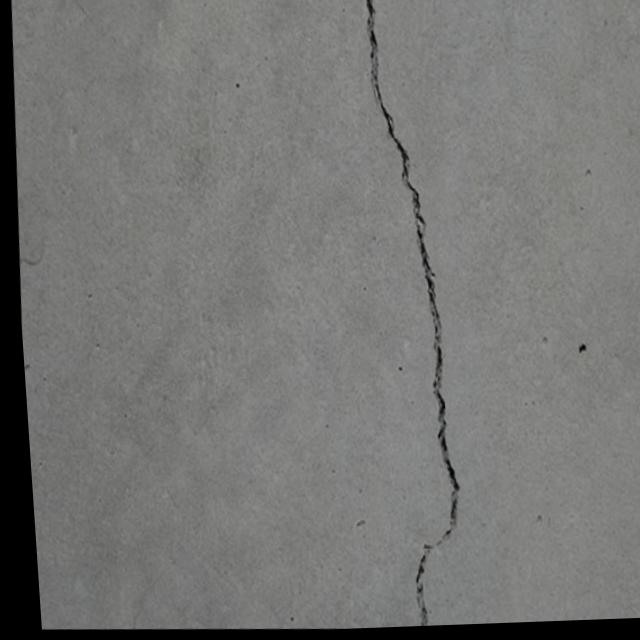Crack: (329, 0, 479, 630)
